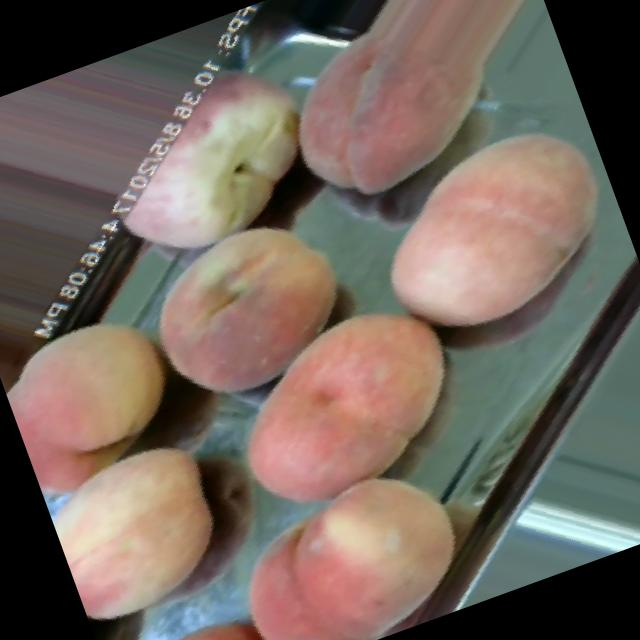Fruit: (222, 0, 598, 254), (327, 88, 640, 379), (186, 259, 498, 539), (54, 22, 354, 278), (110, 191, 394, 443), (191, 438, 505, 640), (0, 266, 222, 513), (32, 405, 264, 640), (98, 573, 326, 640)
